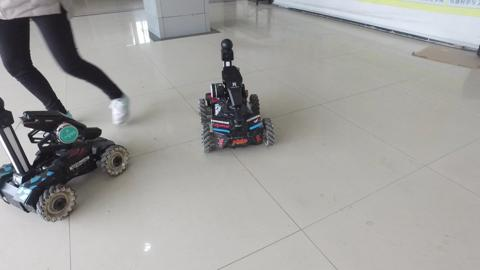chariot: (1, 93, 134, 225), (194, 34, 276, 159)
